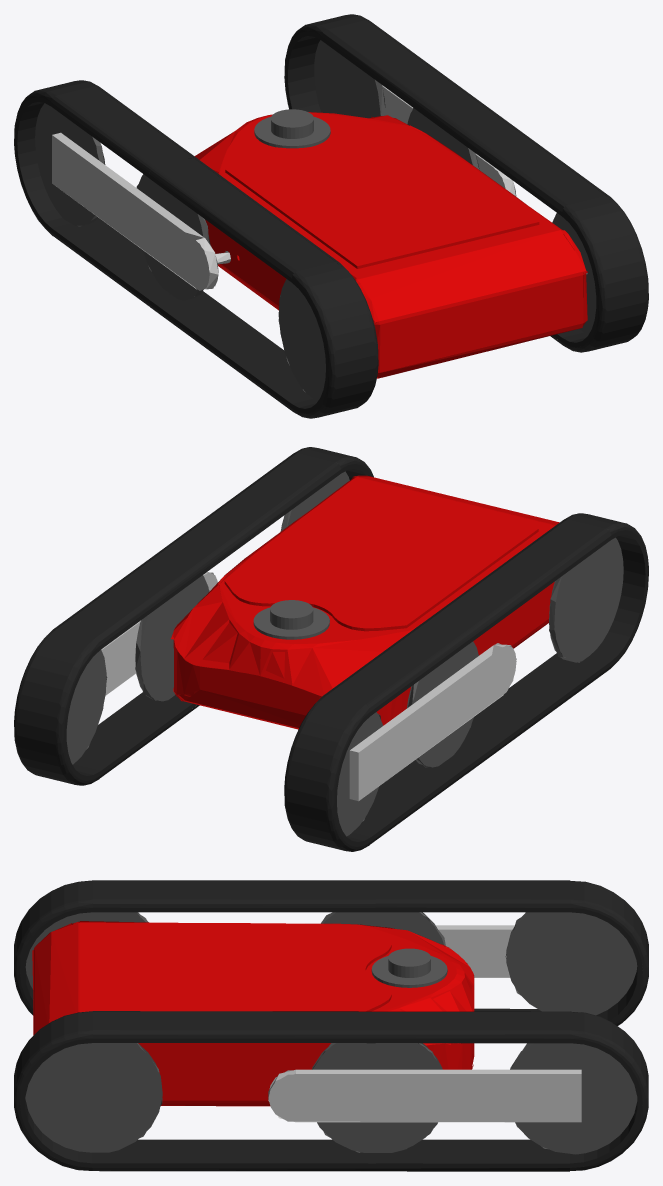
Rendered from robot-complete-model.dae.
3 renders of one model, top to bottom at view 1: azimuth 30°, elevation 25°; view 2: azimuth 150°, elevation 25°; view 3: azimuth 270°, elevation 25°, orthographic.
Visible parts, largest first — view 1: body, body_lid, wheels_left_bar, wheels_right_chain_back, wheels_left_chain_back, wheels_left_chain_top_back, wheels_right_chain_top_back, wheels_left_chain_bottom_back, wheels_left_chain_top_front, wheels_right_chain_top_front, wheels_left_chain_bottom_front, wheels_right_front (+9 smaller); view 2: body_lid, body, wheels_left_bar, wheels_right_chain_front, wheels_left_chain_front, wheels_left_chain_top_back, wheels_right_chain_top_back, wheels_left_chain_bottom_back, wheels_left_rear, wheels_right_chain_top_front, wheels_left_chain_top_front, wheels_right_chain_bottom_front (+10 smaller); view 3: body_lid, body, wheels_right_bar, wheels_right_rear, wheels_left_front, wheels_left_chain_top_back, wheels_right_chain_top_back, wheels_right_chain_bottom_back, wheels_right_front, wheels_left_chain_top_front, wheels_right_chain_top_front, wheels_right_mid (+9 smaller).
Part boxes in pixels (x1,y1,x2,y2): body: [194, 112, 587, 378]; body_lid: [225, 122, 539, 268]; wheels_left_bar: [52, 132, 230, 290]; wheels_right_chain_back: [562, 195, 648, 352]; wheels_left_chain_back: [292, 262, 378, 418]; wheels_left_chain_top_back: [149, 158, 339, 282]; wheels_right_chain_top_back: [420, 91, 609, 216]; wheels_left_chain_bottom_back: [149, 291, 313, 411]; wheels_left_chain_top_front: [51, 86, 197, 178]; wheels_right_chain_top_front: [322, 20, 468, 112]; wheels_left_chain_bottom_front: [51, 217, 170, 306]; wheels_right_front: [314, 40, 385, 118]; body_lid: [224, 484, 538, 631]; body: [171, 475, 559, 729]; wheels_left_bar: [349, 643, 516, 801]; wheels_right_chain_front: [14, 629, 100, 785]; wheels_left_chain_front: [284, 695, 370, 851]; wheels_left_chain_top_back: [422, 519, 611, 643]; wheels_right_chain_top_back: [151, 453, 340, 577]; wheels_left_chain_bottom_back: [447, 653, 611, 773]; wheels_left_rear: [549, 537, 623, 662]; wheels_right_chain_top_front: [53, 557, 198, 649]; wheels_left_chain_top_front: [323, 623, 468, 715]; wheels_right_chain_bottom_front: [74, 692, 197, 777]; body_lid: [100, 925, 391, 1011]; body: [32, 921, 474, 1106]; wheels_right_bar: [268, 1069, 581, 1122]; wheels_right_rear: [25, 1043, 162, 1152]; wheels_left_front: [505, 912, 637, 1015]; wheels_left_chain_top_back: [93, 880, 375, 912]; wheels_right_chain_top_back: [93, 1011, 375, 1043]; wheels_right_chain_bottom_back: [92, 1139, 376, 1171]; wheels_right_front: [510, 1043, 637, 1154]; wheels_left_chain_top_front: [375, 880, 570, 912]; wheels_right_chain_top_front: [375, 1011, 569, 1043]; wheels_right_mid: [312, 1043, 442, 1152].
Bounding box in the file's own units: 58.05 × 101 × 24.67.
